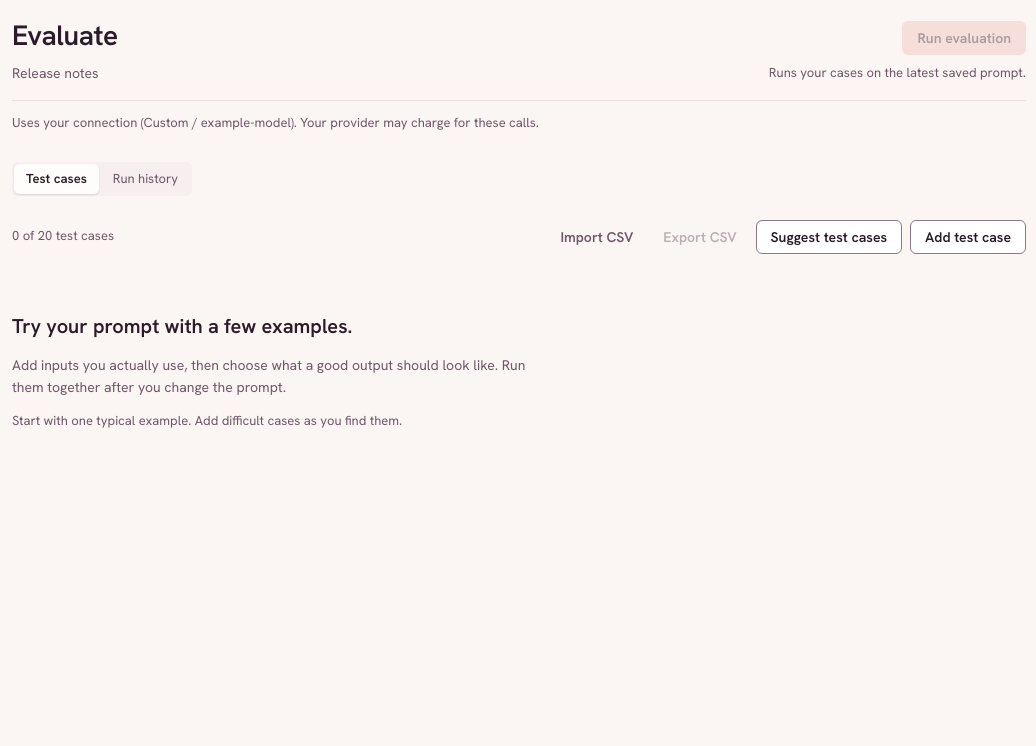
it: rates a historical manual result and updates its score
Expected: the heading "Evaluate" is shown, [12, 13, 118, 58]
Click the radio button labelled "Run history": click(146, 179) [101, 164, 190, 194]
(page scrolled)
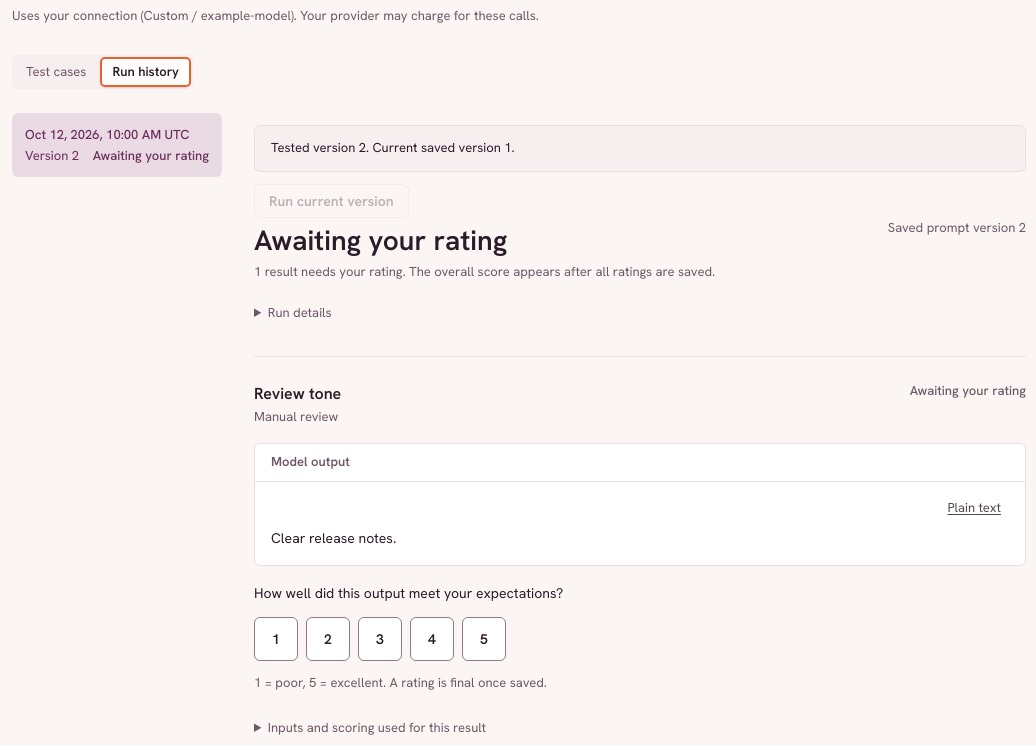
Click the button named "Rate 4 out of 5": click(432, 639) [410, 617, 454, 661]
(page scrolled)
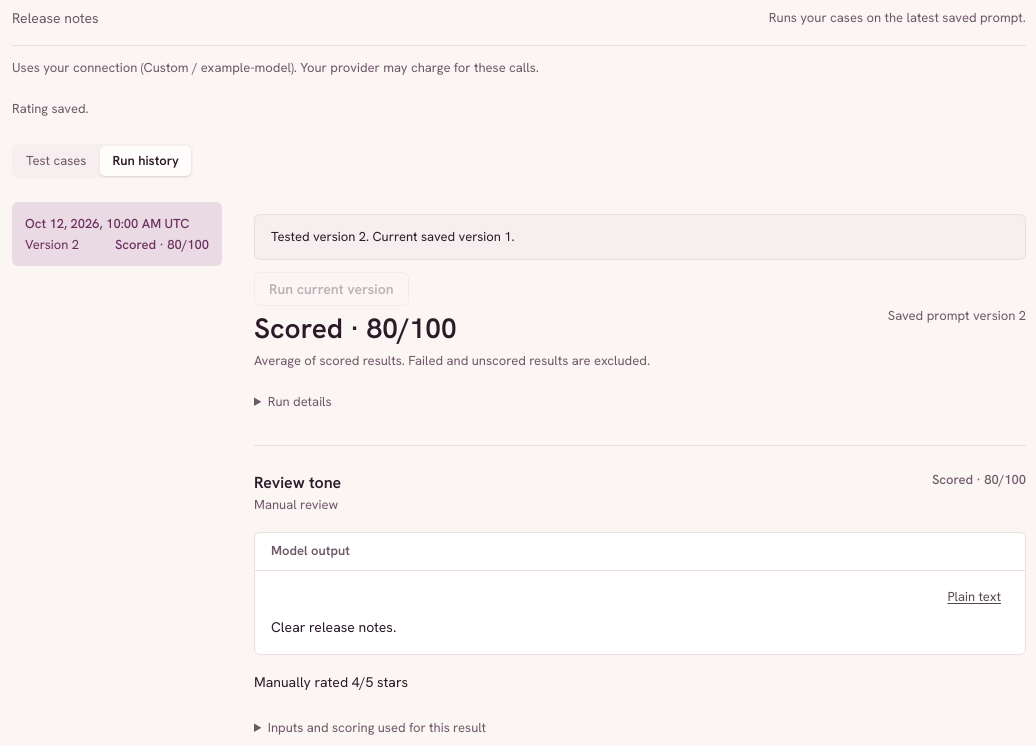
Expected: the button "Awaiting your rating" is gone
Expected: the 1st text "Scored · 80/100" is shown, [115, 236, 209, 253]
